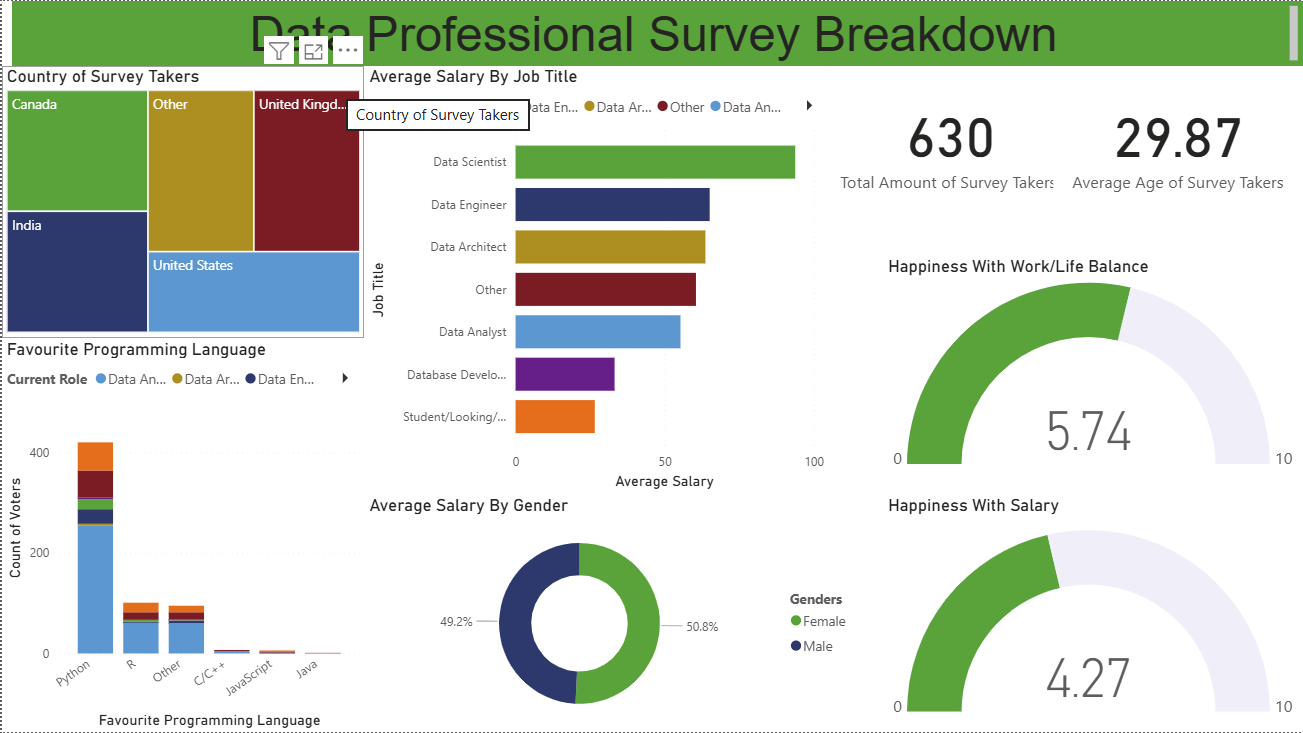

This screenshot's page, from the dashboard's own definition file:
{"tool":"powerbi","page":{"name":"Data Survey","canvas":[1280,720],"ordinal":0},"visuals":[{"type":"textbox","box":[10,0,1270,64.3],"z":0},{"type":"card","fields":{"Values":["Count(Data Professional Survey.Unique ID)"]},"box":[814.3,64.3,238.6,150],"z":1000},{"type":"card","fields":{"Values":["Avg(Data Professional Survey.Q10 - Current Age)"]},"box":[1034.3,64.3,245.7,150],"z":2000},{"type":"barChart","title":"Average Salary By Job Title","fields":{"Category":["Data Professional Survey.Q1 - Which Title Best Fits your Current Role?.1"],"Y":["Avg(Data Professional Survey.Average Salary)"],"Series":["Data Professional Survey.Q1 - Which Title Best Fits your Current Role?.1"]},"box":[357.1,64.3,457.1,421.4],"z":3000},{"type":"columnChart","title":"Favourite Programming Language","fields":{"Category":["Data Professional Survey.Q5 - Favorite Programming Language.1"],"Y":["CountNonNull(Data Professional Survey.Unique ID)"],"Series":["Data Professional Survey.Q1 - Which Title Best Fits your Current Role?.1"]},"box":[0,331.4,357.1,388.6],"z":4000},{"type":"treemap","title":"Country of Survey Takers","fields":{"Group":["Data Professional Survey.Q11 - Which Country do you live in?.1"],"Values":["Count(Data Professional Survey.Q11 - Which Country do you live in?.1)"]},"box":[0,64.3,357.1,267.1],"z":5000},{"type":"gauge","title":"Happiness With Work/Life Balance","fields":{"Y":["Avg(Data Professional Survey.Q6 - How Happy are you in your Current Position with the following? (Work/Life Balance))"],"MinValue":["Min(Data Professional Survey.Q6 - How Happy are you in your Current Position with the following? (Work/Life Balance))"],"MaxValue":["Max(Data Professional Survey.Q6 - How Happy are you in your Current Position with the following? (Work/Life Balance))1"]},"box":[867.1,251.4,412.9,217.1],"z":6000},{"type":"gauge","title":"Happiness With Salary","fields":{"Y":["Avg(Data Professional Survey.Q6 - How Happy are you in your Current Position with the following? (Salary))"],"MinValue":["Min(Data Professional Survey.Q6 - How Happy are you in your Current Position with the following? (Salary))"],"MaxValue":["Max(Data Professional Survey.Q6 - How Happy are you in your Current Position with the following? (Salary))"]},"box":[867.1,485.7,412.9,234.3],"z":7000},{"type":"donutChart","title":"Average Salary By Gender","fields":{"Category":["Data Professional Survey.Q9 - Male/Female?"],"Y":["Avg(Data Professional Survey.Average Salary)"]},"box":[357.1,485.7,494.3,234.3],"z":8000}]}

Visuals, with their boxes in screenshot pixels (x1, y1, x2, y2), scaled from the page's 1280x720 canvas onto the 1303x733 screenshot:
textbox: Rect(10, 0, 1302, 65)
card - Count(Data Professional Survey.Unique ID): Rect(829, 65, 1072, 218)
card - Avg(Data Professional Survey.Q10 - Current Age): Rect(1053, 65, 1302, 218)
"Average Salary By Job Title" barChart: Rect(364, 65, 829, 494)
"Favourite Programming Language" columnChart: Rect(0, 337, 364, 732)
"Country of Survey Takers" treemap: Rect(0, 65, 364, 337)
"Happiness With Work/Life Balance" gauge: Rect(883, 256, 1302, 477)
"Happiness With Salary" gauge: Rect(883, 494, 1302, 732)
"Average Salary By Gender" donutChart: Rect(364, 494, 867, 732)
